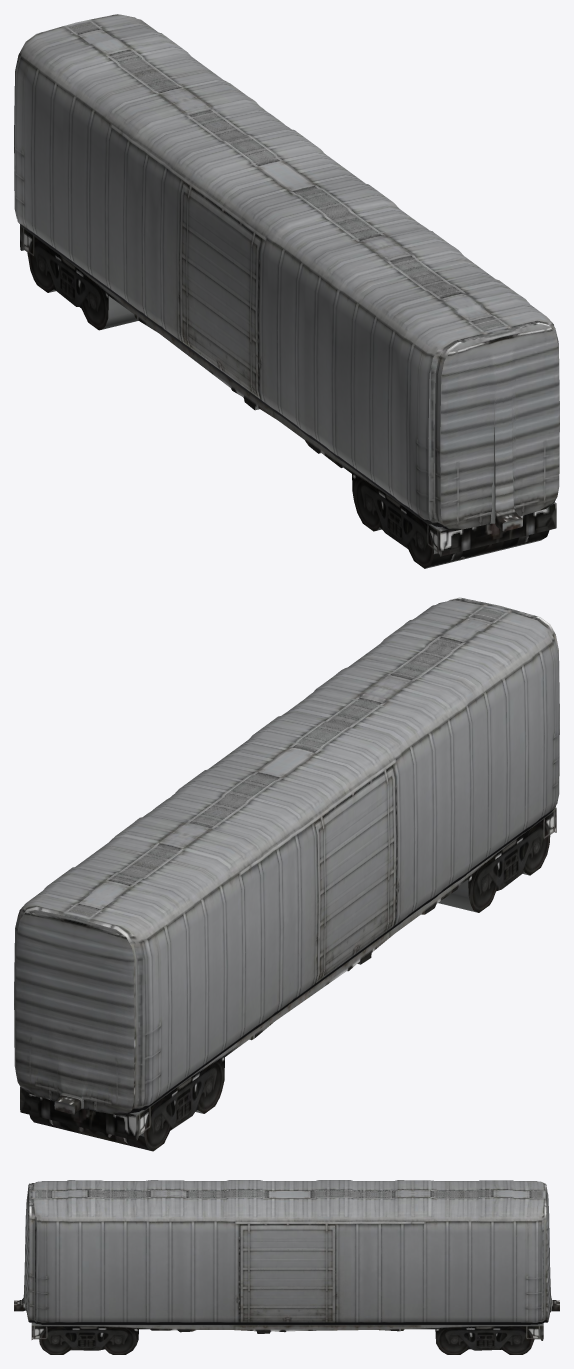
The picture shows the model from 3 angles, top to bottom: view 1: azimuth 30°, elevation 25°; view 2: azimuth 150°, elevation 25°; view 3: azimuth 270°, elevation 25°; orthographic projection. The views are drawn at different scales.
Parts seen in each view (by area): view 1: body; view 2: body; view 3: body.
Part boxes in pixels (<box>): body: <box>14,14,559,568</box>; body: <box>14,597,559,1151</box>; body: <box>14,1180,559,1354</box>.
Bounding box in the file's own units: 3.1 × 5.06 × 17.36.
1 material, 1 textured.
